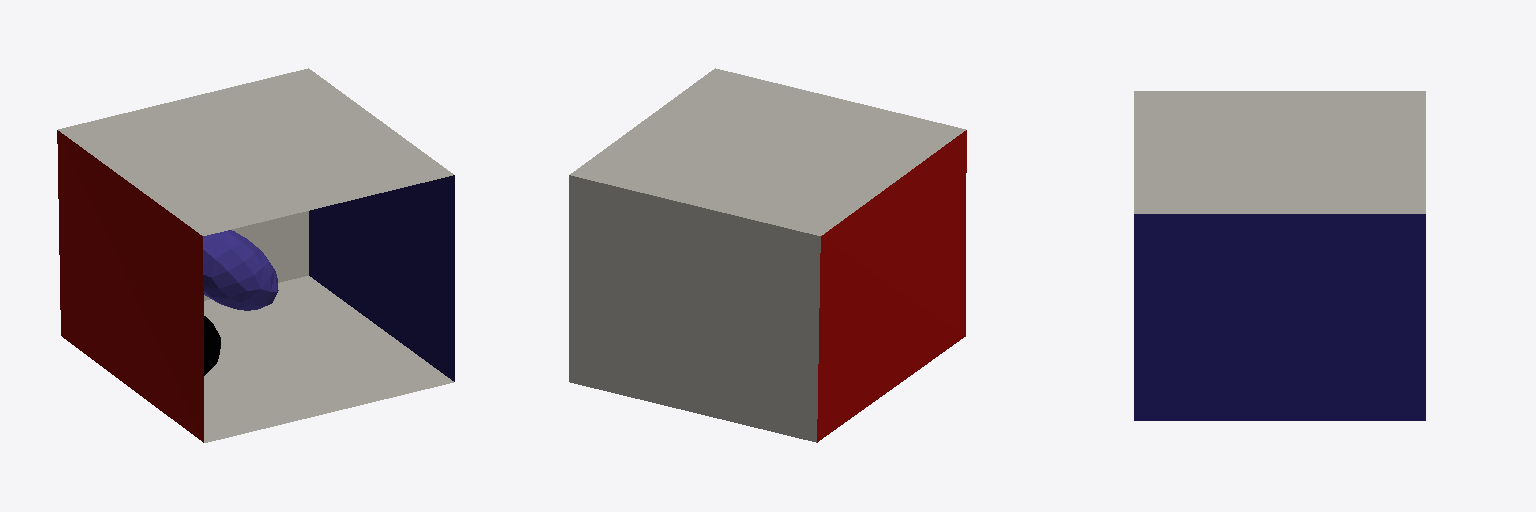
The model's file is CornellBox-Ellipsoid-218.obj.
3 renders of one model, left to right at view 1: azimuth 30°, elevation 25°; view 2: azimuth 150°, elevation 25°; view 3: azimuth 270°, elevation 25°, orthographic.
Visible parts, largest first — view 1: ceiling, leftWall, floor, rightWall, leftSphere, backWall, rightSphere; view 2: backWall, ceiling, leftWall; view 3: rightWall, ceiling.
Boxes of the visible parts, x1=… form: ceiling: x1=58, y1=68, x2=453, y2=235; leftWall: x1=57, y1=130, x2=203, y2=442; floor: x1=204, y1=276, x2=453, y2=442; rightWall: x1=309, y1=175, x2=454, y2=381; leftSphere: x1=203, y1=230, x2=278, y2=310; backWall: x1=204, y1=211, x2=308, y2=300; rightSphere: x1=204, y1=316, x2=220, y2=375; backWall: x1=569, y1=175, x2=820, y2=442; ceiling: x1=570, y1=68, x2=965, y2=235; leftWall: x1=817, y1=130, x2=966, y2=442; rightWall: x1=1134, y1=214, x2=1425, y2=420; ceiling: x1=1134, y1=91, x2=1425, y2=213.
Bounding box in the file's own units: 2.02 × 1.59 × 2.03.